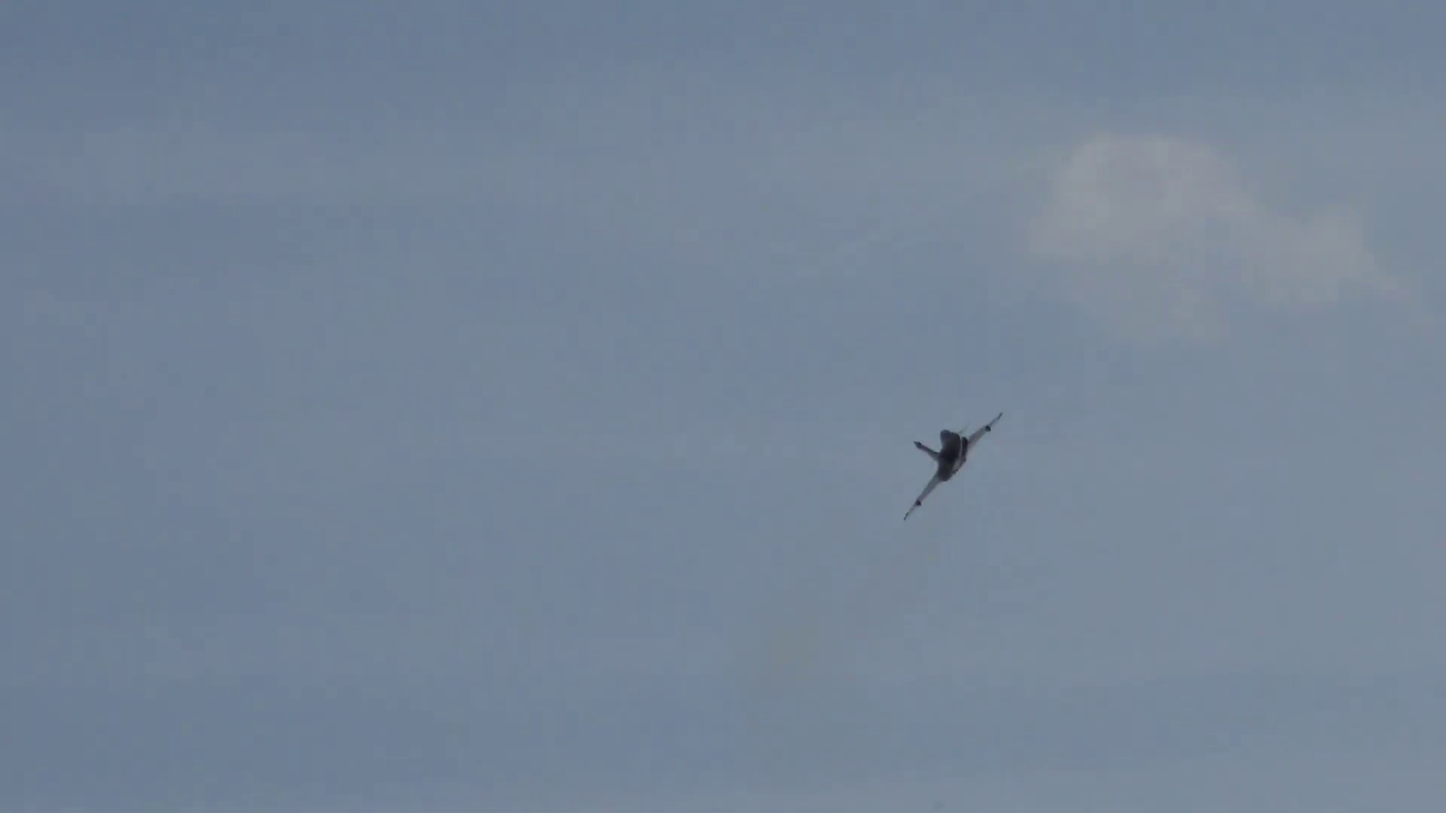Rafale: (902, 407, 1009, 523)
